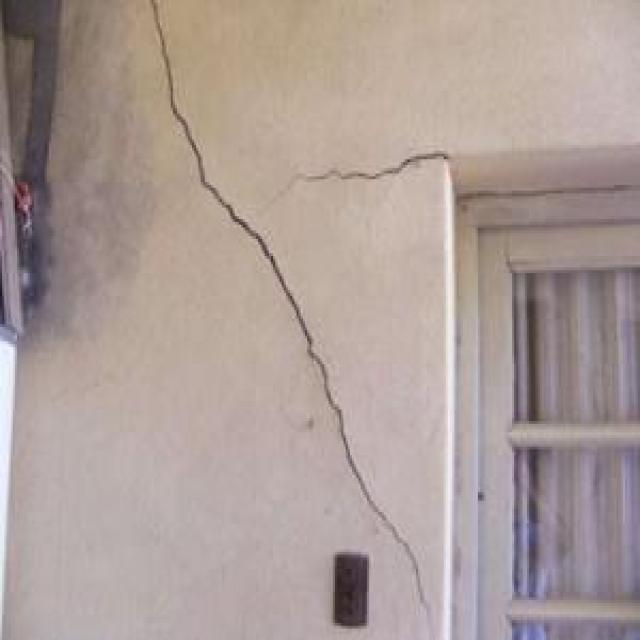crack: (151, 5, 427, 604), (263, 150, 453, 205)
